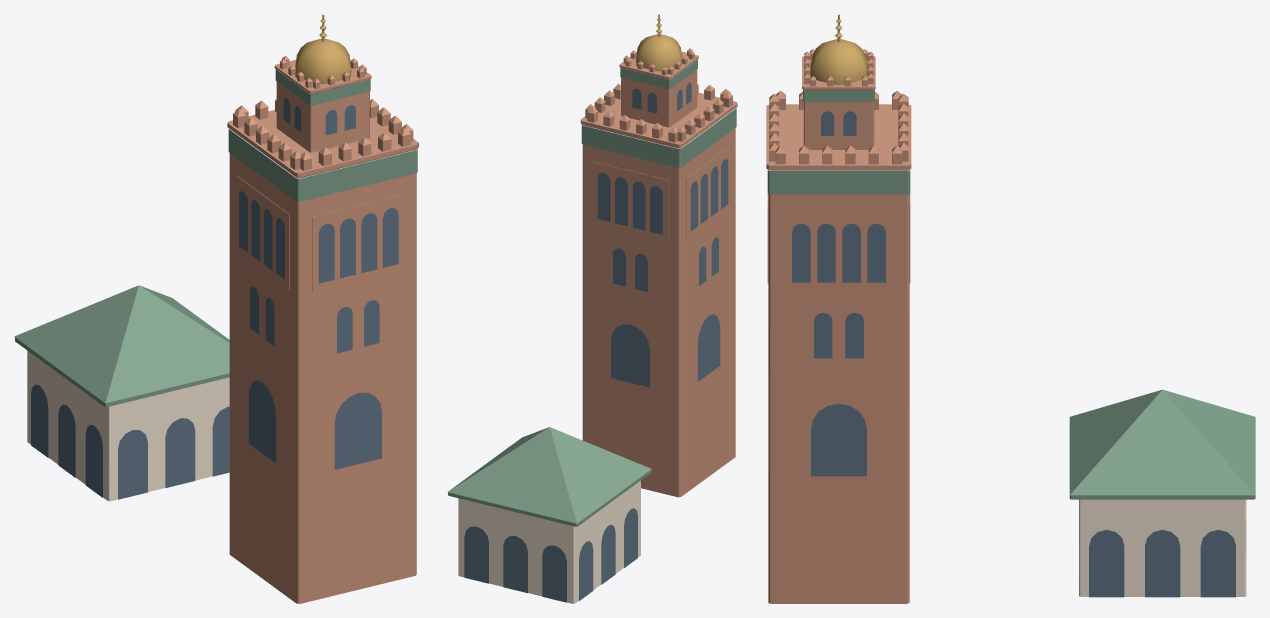
The model's file is wdw-epcot-morocco.glb.
The picture shows the model from 3 angles, left to right: view 1: azimuth 30°, elevation 25°; view 2: azimuth 150°, elevation 25°; view 3: azimuth 270°, elevation 25°; orthographic projection. The views are drawn at different scales.
Visible parts, largest first — view 1: EPCOT Morocco pavilion minaret; view 2: EPCOT Morocco pavilion minaret; view 3: EPCOT Morocco pavilion minaret.
Part boxes in pixels (left/top/right/bottom): EPCOT Morocco pavilion minaret: left=14, top=14, right=418, bottom=603; EPCOT Morocco pavilion minaret: left=447, top=14, right=737, bottom=603; EPCOT Morocco pavilion minaret: left=766, top=14, right=1255, bottom=603.
Bounding box in the file's own units: 10.5 × 33.2 × 26.3.
